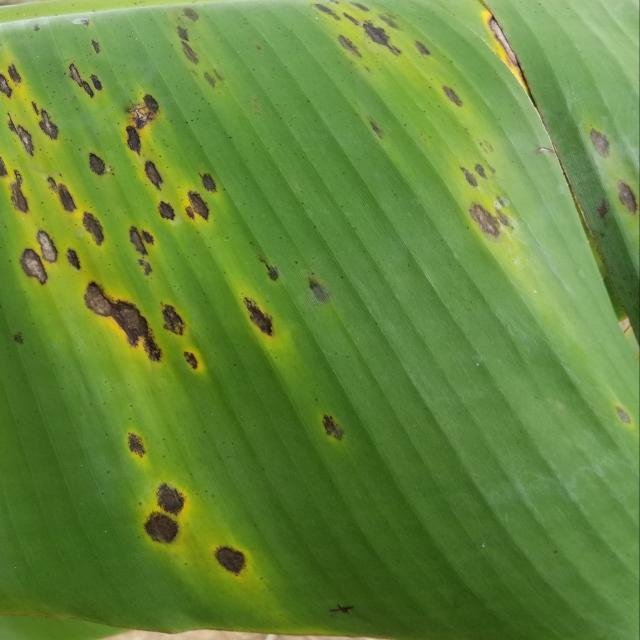Early_rust: (0, 0, 640, 587)
